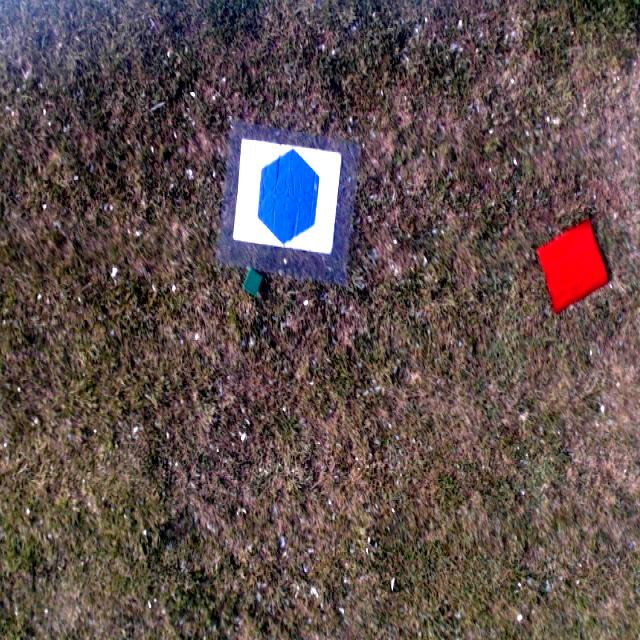blue_hexagon: (258, 146, 321, 247)
red_square: (537, 218, 610, 318)
